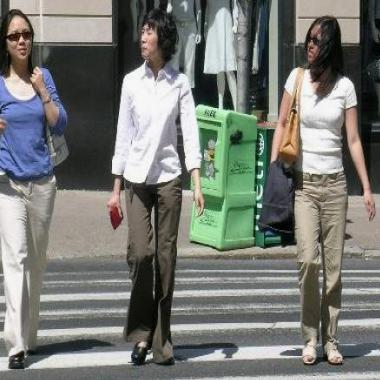ped: (261, 17, 375, 364), (107, 9, 206, 365), (1, 9, 69, 368)
